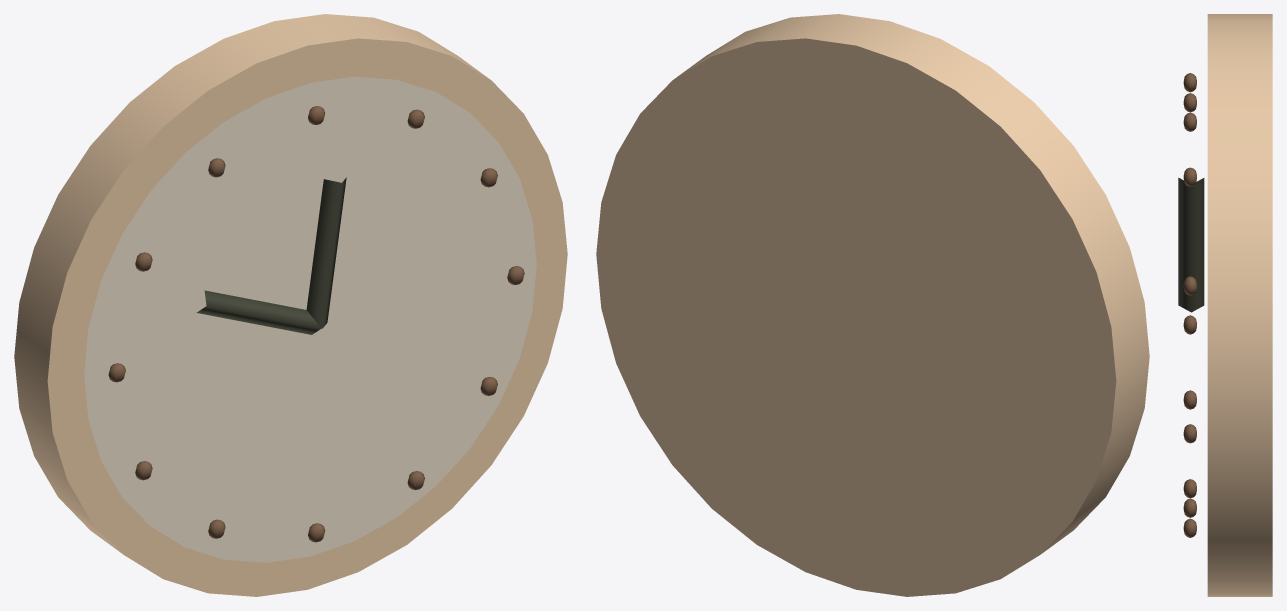
The model's file is living_ref_clock.glb.
The picture shows the model from 3 angles, left to right: view 1: azimuth 30°, elevation 25°; view 2: azimuth 150°, elevation 25°; view 3: azimuth 270°, elevation 25°; orthographic projection. The views are drawn at different scales.
Bounding box in the file's own units: 0.54 × 0.54 × 0.087.
